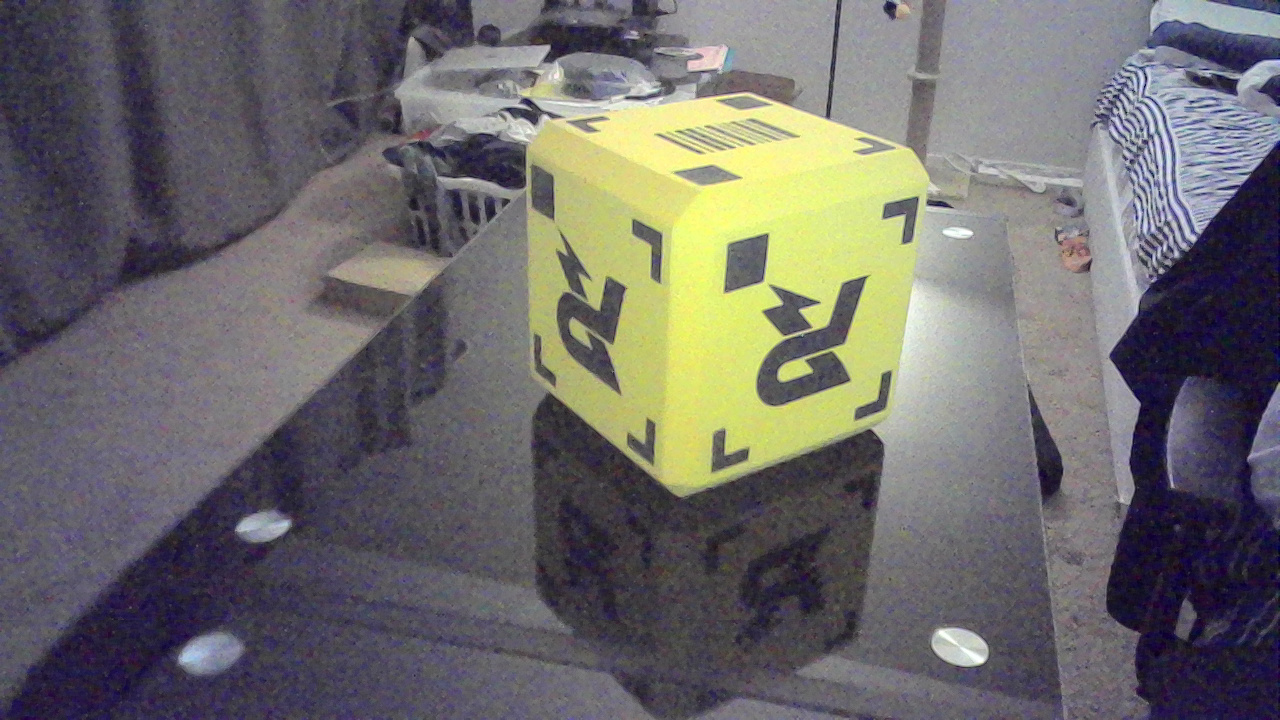Barcode: (665, 107, 813, 169)
R: (757, 279, 879, 409), (557, 239, 640, 401)
